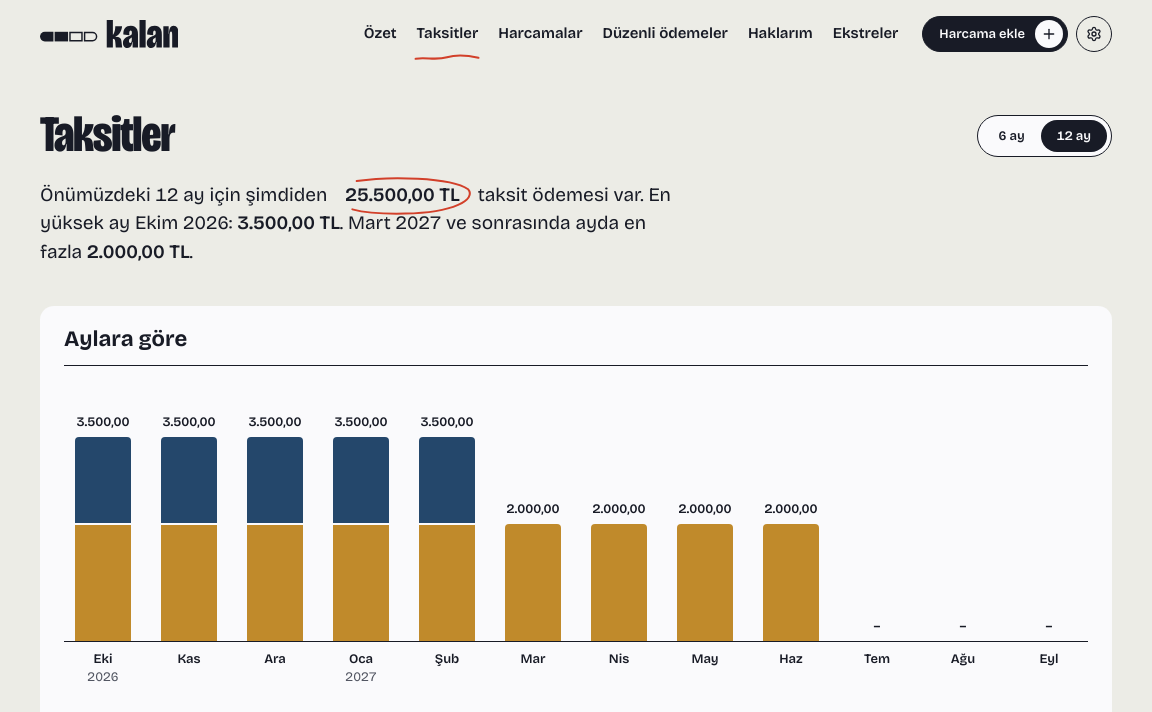
Test: manual entry: date in the app language › picks day, month name and year in Turkish and stores the ISO date
This screenshot has width=1152, height=712.
Click the button "Harcama ekle Harcama ekle": (995, 34) [922,16,1068,52]
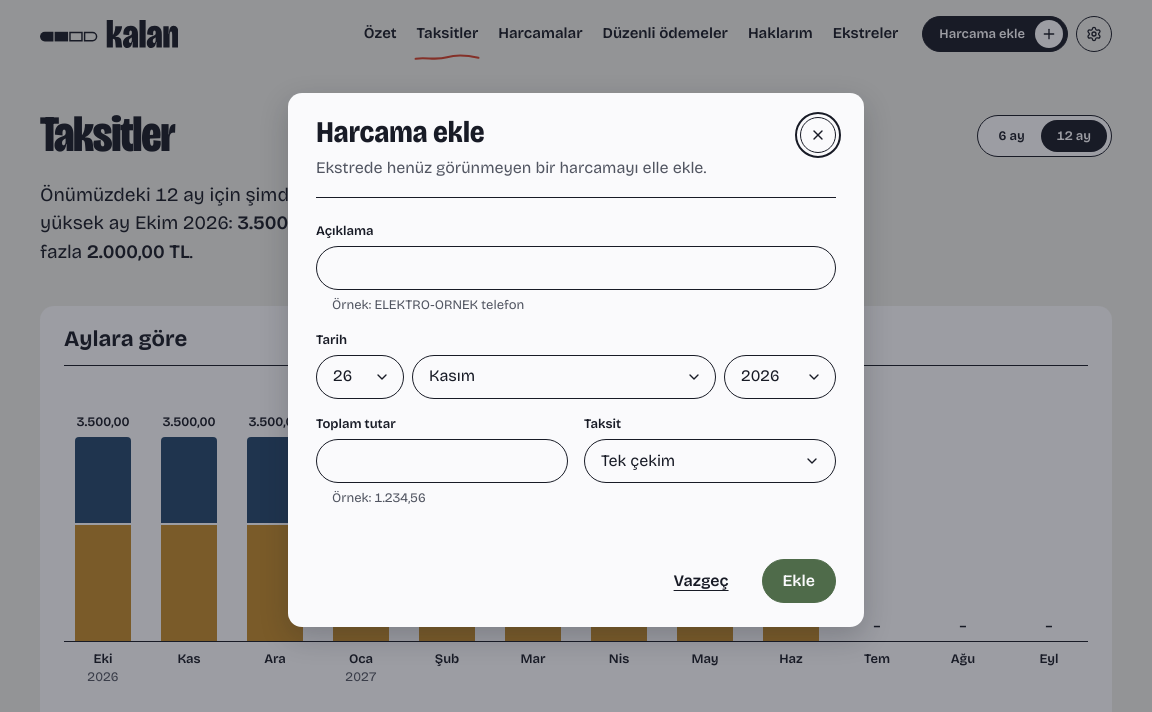
Select "2026" in the dropdown named "Yıl": (780, 377) [724,355,836,399]
Select "Şubat" in the dropdown named "Ay": (564, 377) [412,355,716,399]
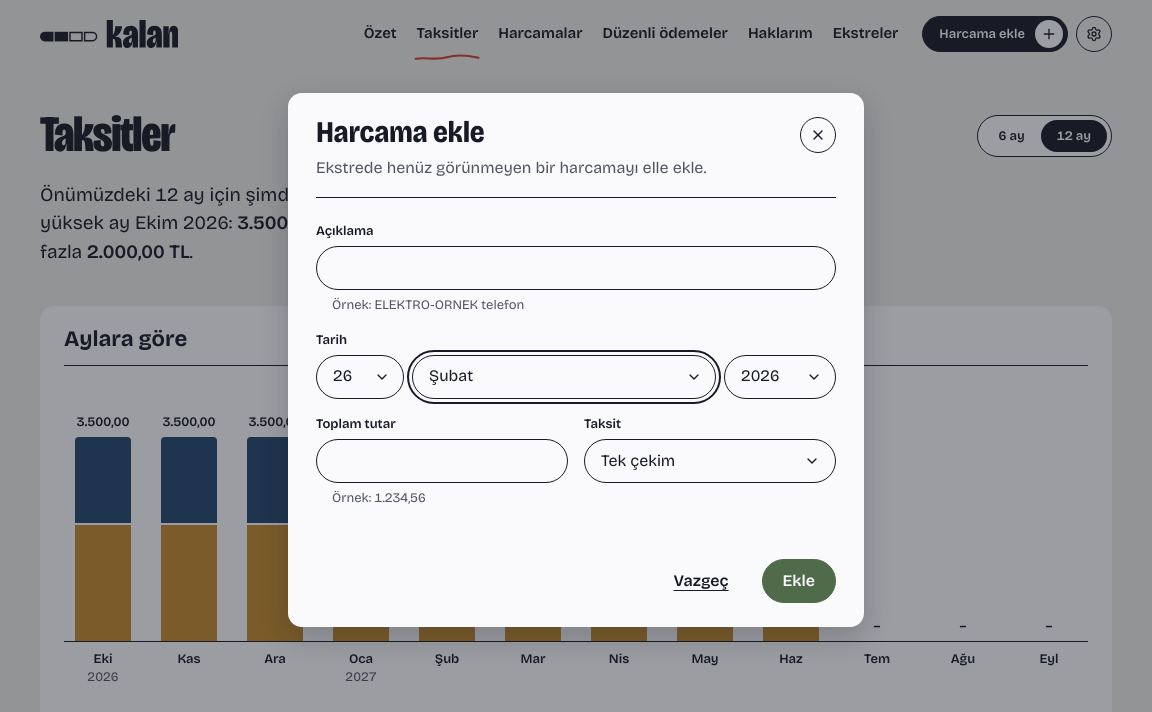
Select "28" in the dropdown named "Gün": (360, 377) [316,355,404,399]
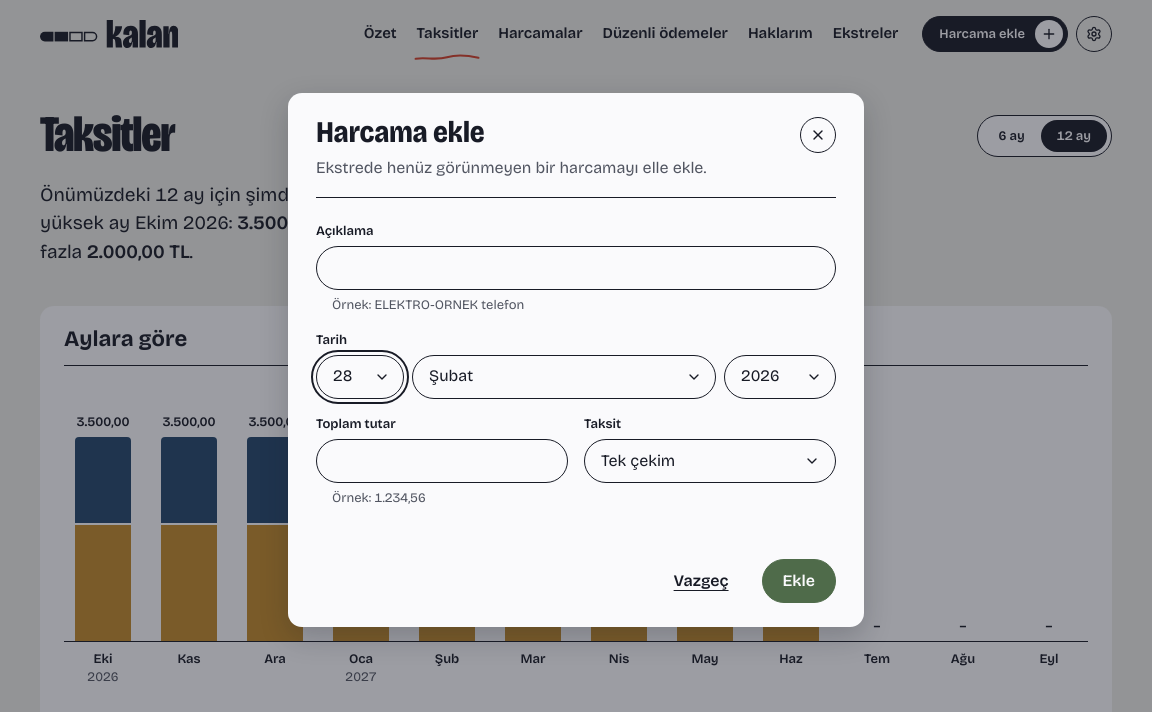
In the field labelled "Açıklama": (576, 268) [316,246,836,290], type "ORNEK ELLE"
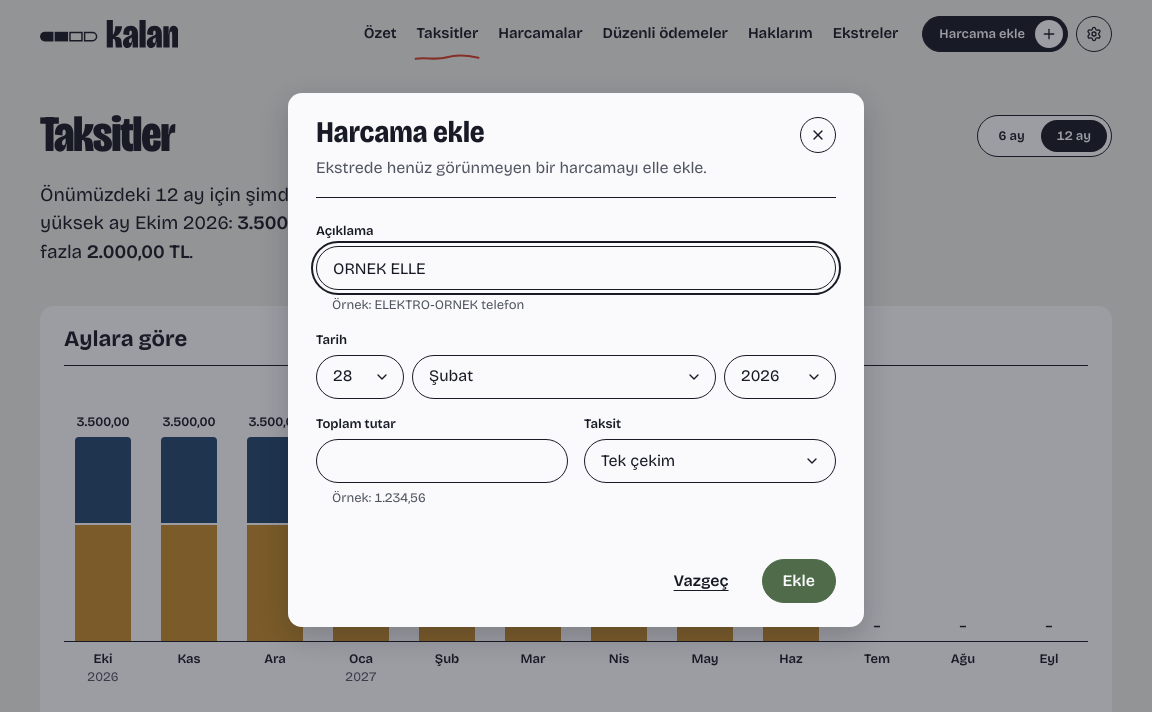
In the field labelled "Toplam tutar": (442, 461) [316,439,568,483], type "1.234,56"
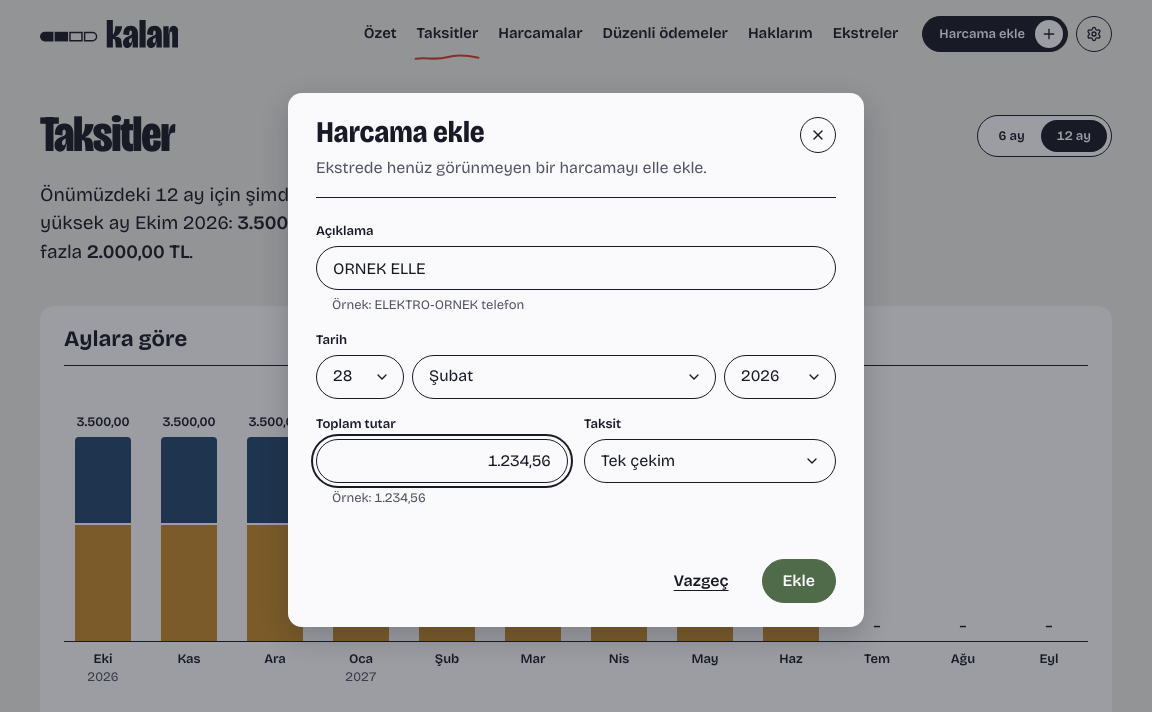
Click the button "Ekle Ekle": (799, 581) [762,559,836,603]
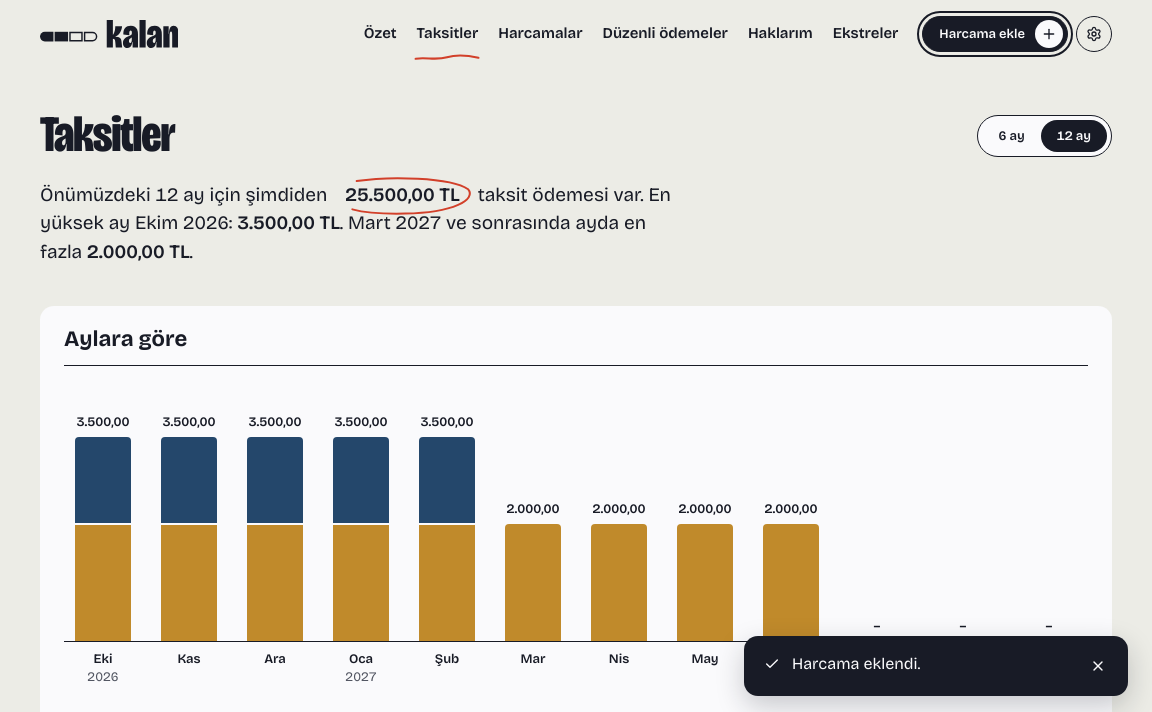
Now the text "Harcama eklendi." is shown, box [792,654,920,673]
